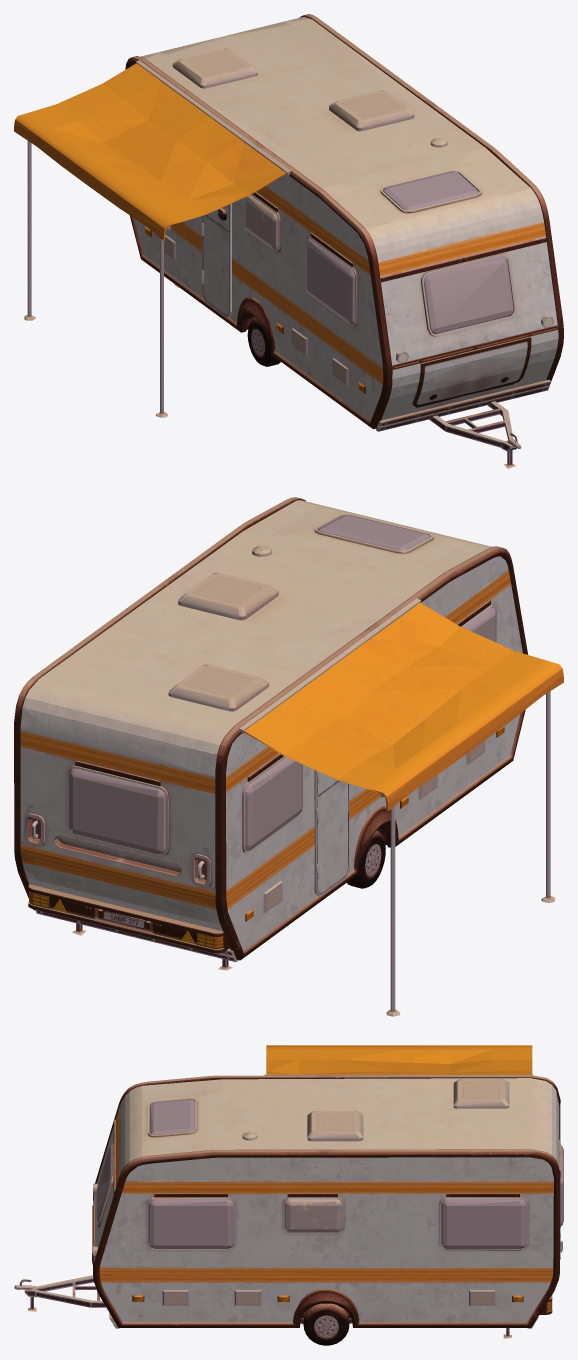
The model's file is stats-bld.glb.
3 renders of one model, top to bottom at view 1: azimuth 30°, elevation 25°; view 2: azimuth 150°, elevation 25°; view 3: azimuth 270°, elevation 25°, orthographic. The views are drawn at different scales.
Parts seen in each view (by area): view 1: MobileHome_A_MI_MobileHome_A_0; view 2: MobileHome_A_MI_MobileHome_A_0; view 3: MobileHome_A_MI_MobileHome_A_0.
Part boxes in pixels (box(x1,y1,x2,y2)): MobileHome_A_MI_MobileHome_A_0: box(14, 14, 563, 468); MobileHome_A_MI_MobileHome_A_0: box(14, 497, 563, 1016); MobileHome_A_MI_MobileHome_A_0: box(14, 1045, 563, 1345).
Bounding box in the file's own units: 10.98 × 7.76 × 19.1.
Materials: 1 (1 with a texture image).
